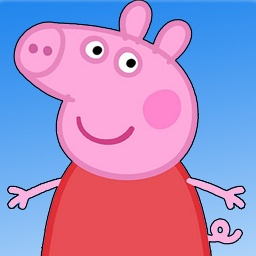Peppa: (5, 1, 250, 256)
